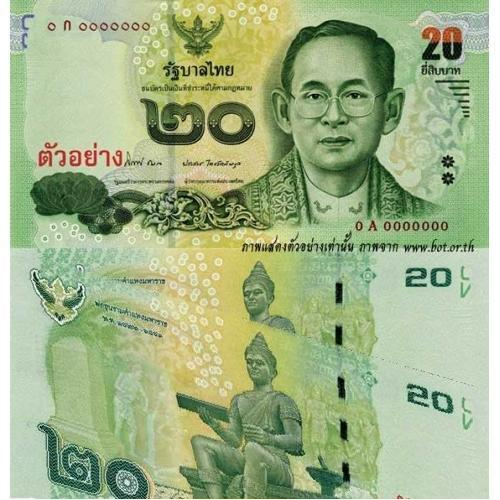20BahtTai: (15, 251, 489, 500)
